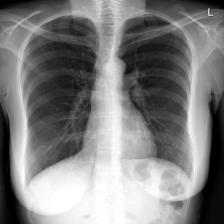normal: (17, 9, 200, 199)
